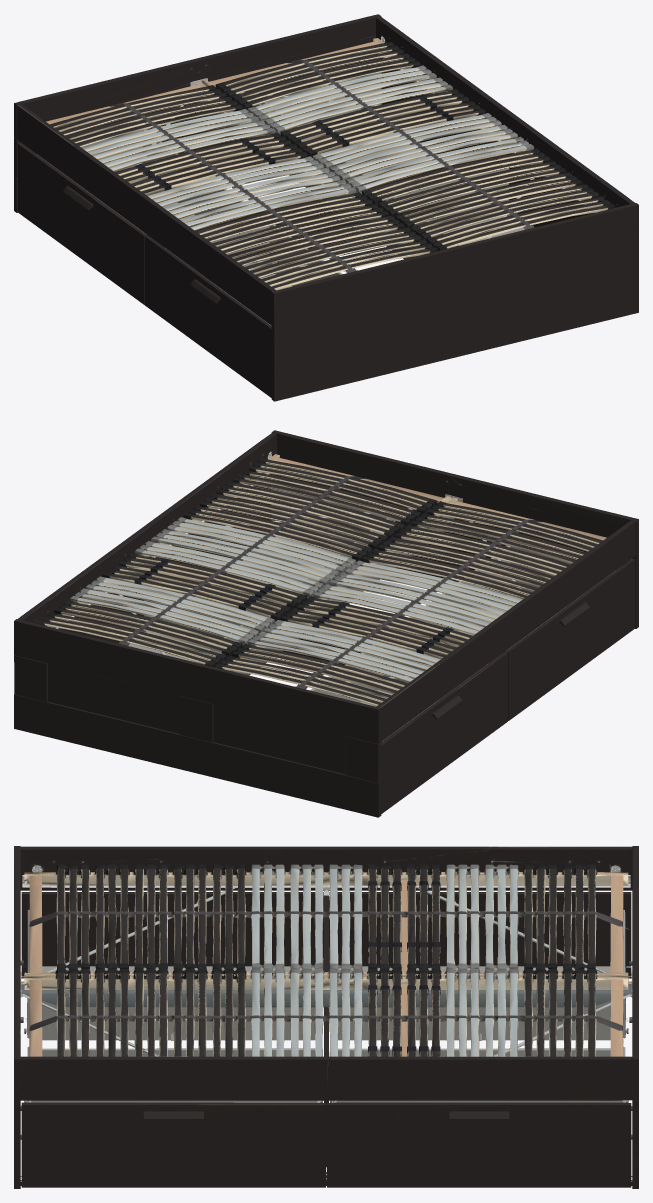
Rendered from BRIMNES_09902934.glb.
3 views of the same model, one above another, from view 1: azimuth 30°, elevation 25°; view 2: azimuth 150°, elevation 25°; view 3: azimuth 270°, elevation 25° (orthographic). The views are drawn at different scales.
Visible parts, largest first — view 1: 6c6eb00cd1a04a39b022ec4e598c6d5f, c6a63683276542c5a429a6a092a2aed1, c89f41c5b2694a9dbcb78b1e7936cf88; view 2: 6c6eb00cd1a04a39b022ec4e598c6d5f, c6a63683276542c5a429a6a092a2aed1, c89f41c5b2694a9dbcb78b1e7936cf88; view 3: 6c6eb00cd1a04a39b022ec4e598c6d5f, c89f41c5b2694a9dbcb78b1e7936cf88, c6a63683276542c5a429a6a092a2aed1, ProcessedMeshNode.
Boxes of the visible parts, x1,y1,x2,y2 form: 6c6eb00cd1a04a39b022ec4e598c6d5f: (14, 14, 638, 401); c6a63683276542c5a429a6a092a2aed1: (201, 38, 615, 250); c89f41c5b2694a9dbcb78b1e7936cf88: (46, 81, 437, 289); 6c6eb00cd1a04a39b022ec4e598c6d5f: (14, 430, 638, 817); c6a63683276542c5a429a6a092a2aed1: (37, 454, 451, 667); c89f41c5b2694a9dbcb78b1e7936cf88: (215, 497, 606, 706); 6c6eb00cd1a04a39b022ec4e598c6d5f: (14, 846, 638, 1188); c89f41c5b2694a9dbcb78b1e7936cf88: (24, 864, 628, 984); c6a63683276542c5a429a6a092a2aed1: (24, 968, 628, 1056); ProcessedMeshNode: (21, 984, 631, 1007).
Size of the model in its own units: 1.71 by 0.4696 by 2.05.
4 materials, 4 textured.
